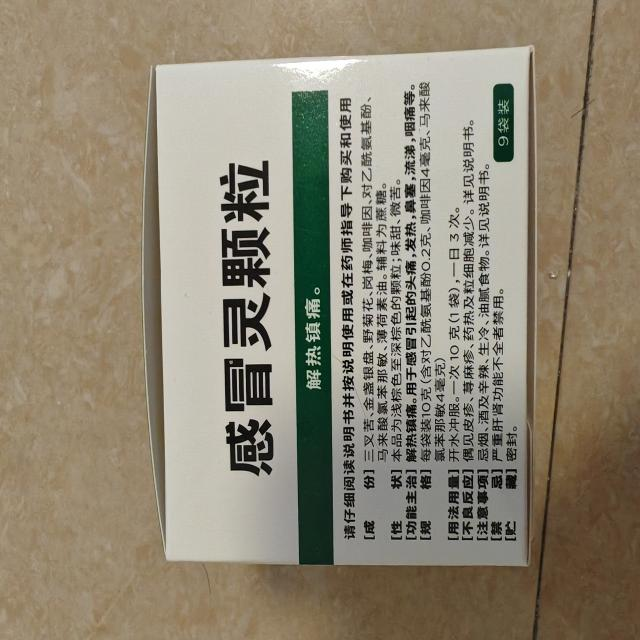box: (134, 41, 544, 586)
